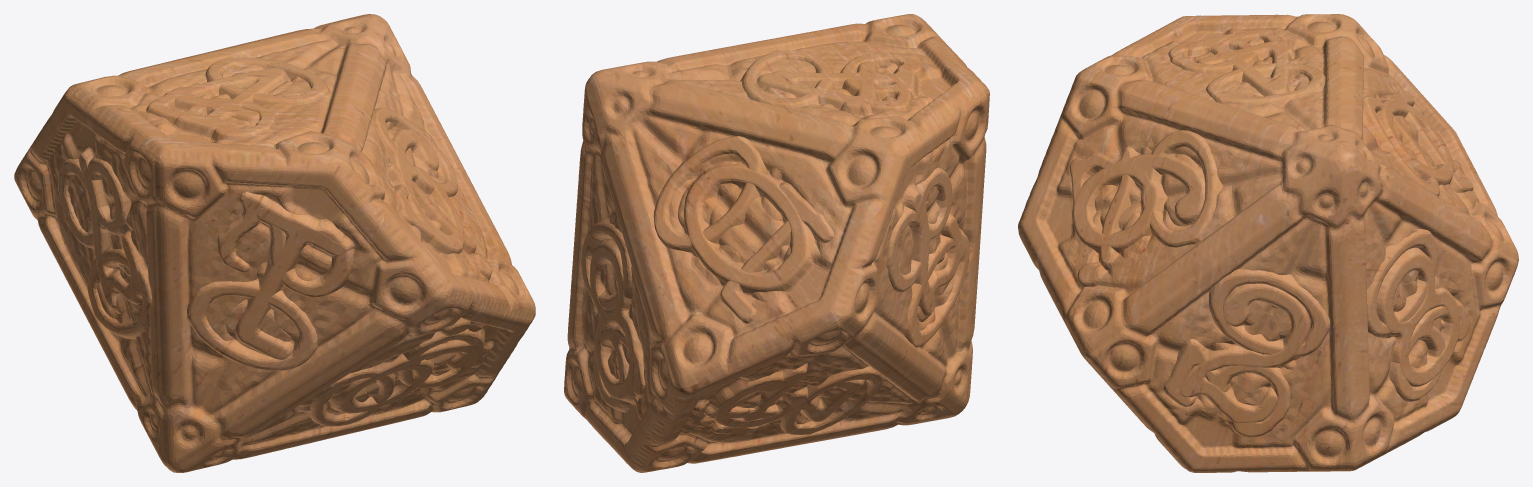
File: dice-bronze.glb
3 views of the same model, side by side, from view 1: azimuth 30°, elevation 25°; view 2: azimuth 150°, elevation 25°; view 3: azimuth 270°, elevation 25° (orthographic). The views are drawn at different scales.
Visible parts, largest first — view 1: unit, percentile; view 2: unit, percentile; view 3: unit, percentile.
Boxes of the visible parts, x1,y1,x2,y2 form: unit: [14, 14, 535, 472]; percentile: [19, 21, 527, 465]; unit: [564, 14, 989, 472]; percentile: [572, 17, 989, 466]; unit: [1018, 14, 1518, 472]; percentile: [1018, 15, 1509, 472].
Size of the model in its own units: 2.2 by 2.09 by 3.
1 material, 1 textured.
